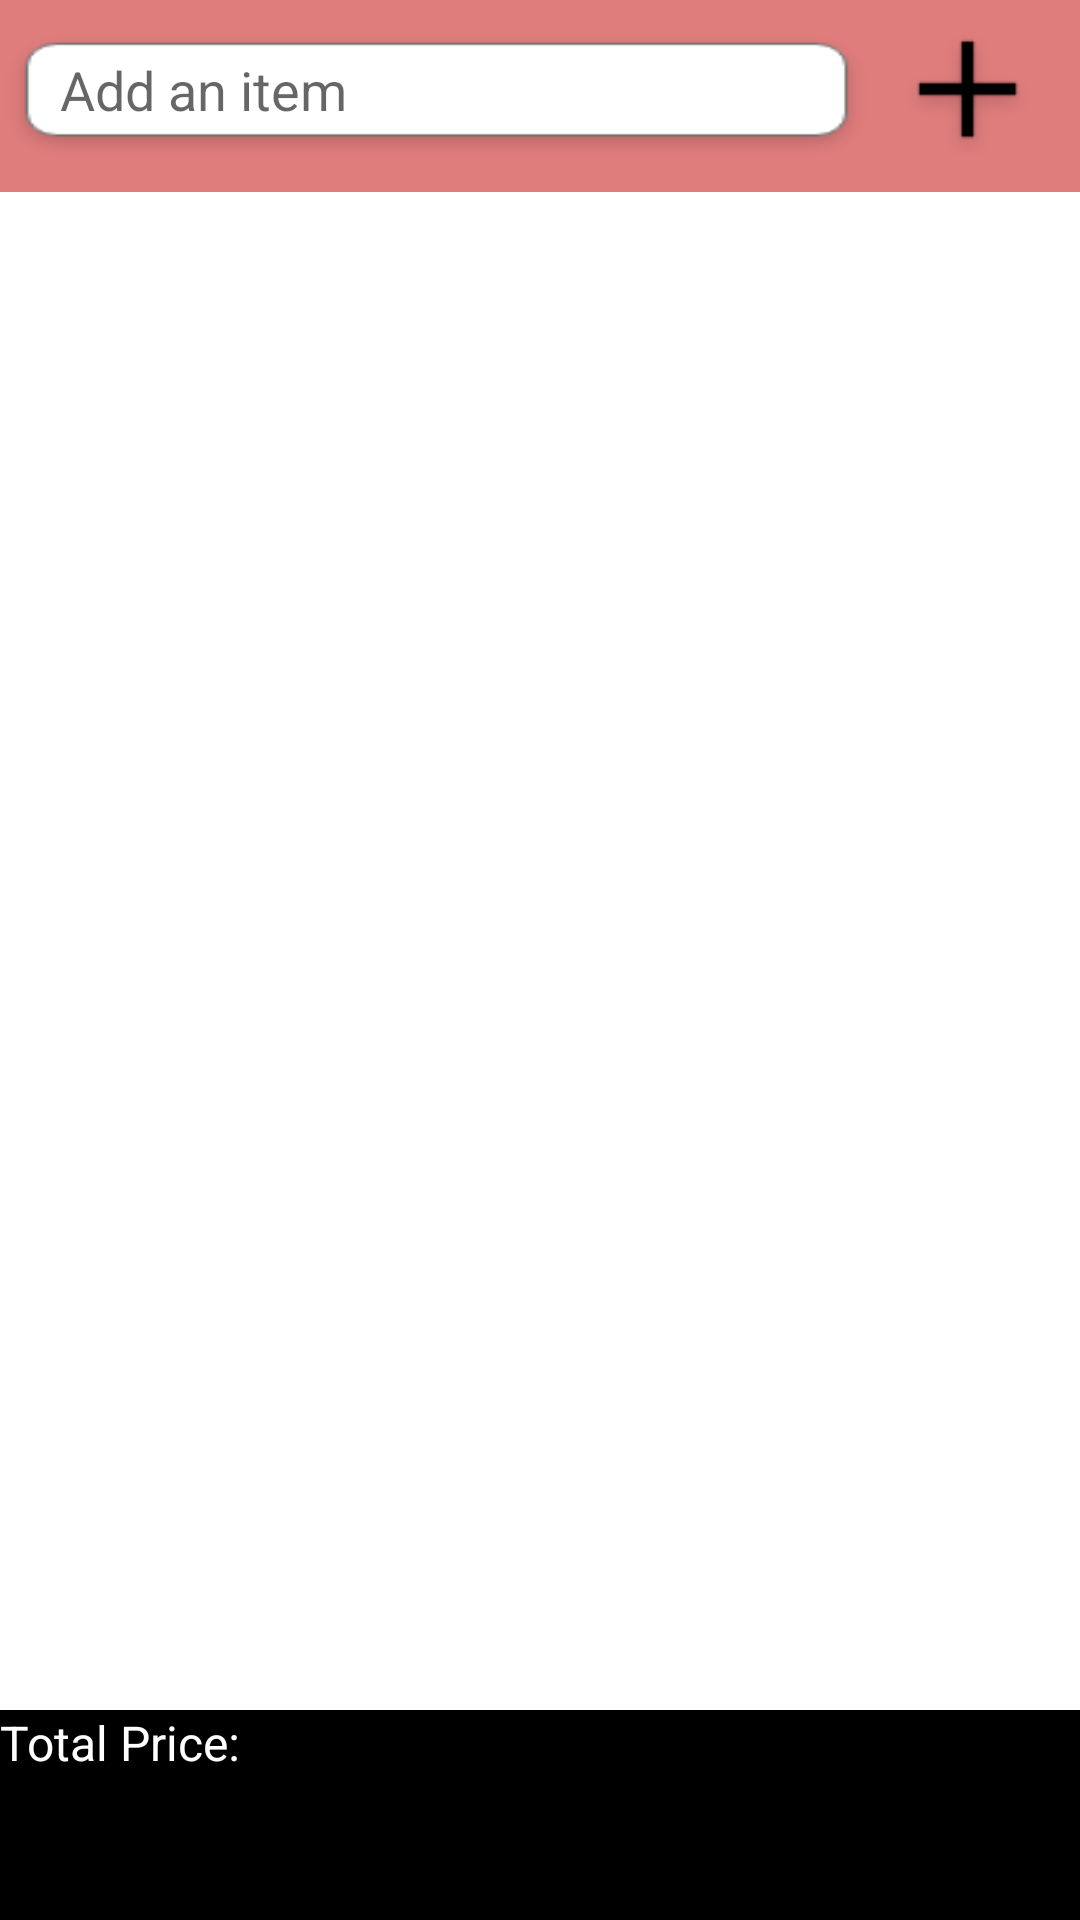

Where to tap for icons on this 1080*1920 app screen, as [x,y]:
plus: [967,89]
